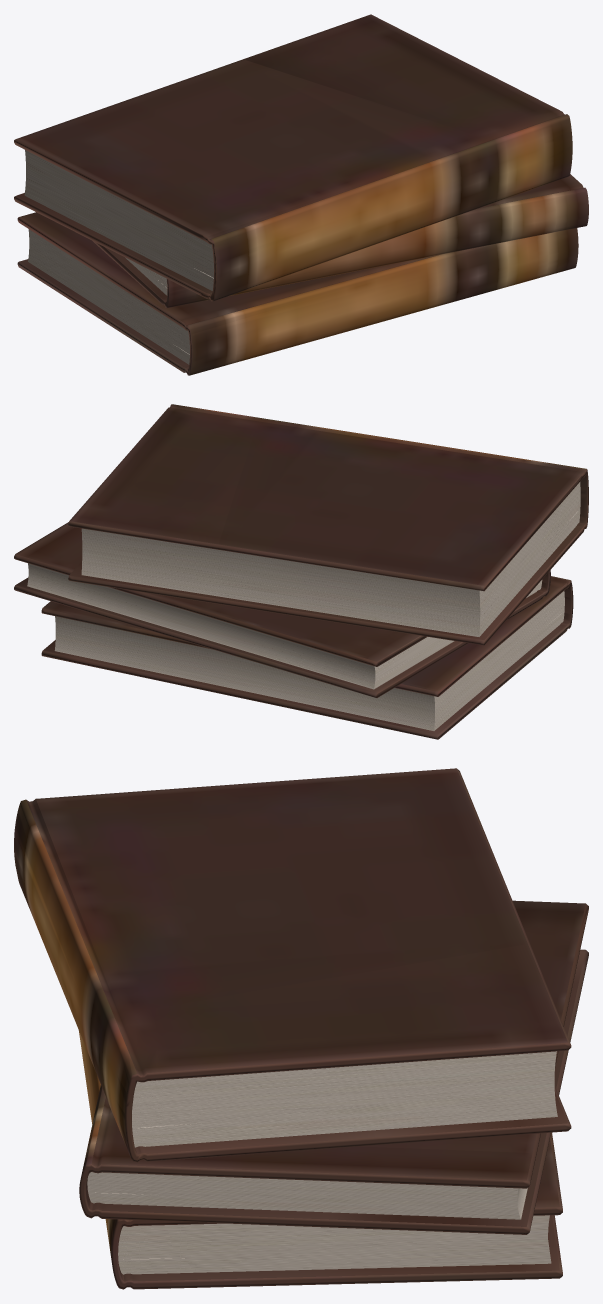
Rendered from bookstack.glb.
The picture shows the model from 3 angles, top to bottom: view 1: azimuth 30°, elevation 25°; view 2: azimuth 150°, elevation 25°; view 3: azimuth 270°, elevation 25°; orthographic projection. The views are drawn at different scales.
Visible parts, largest first — view 1: book_encyclopedia_set_01_book15, book_encyclopedia_set_01_book02, book_encyclopedia_set_01_book09; view 2: book_encyclopedia_set_01_book15, book_encyclopedia_set_01_book02, book_encyclopedia_set_01_book09; view 3: book_encyclopedia_set_01_book15, book_encyclopedia_set_01_book09, book_encyclopedia_set_01_book02.
Boxes of the visible parts, x1,y1,x2,y2 form: book_encyclopedia_set_01_book15: [14, 14, 572, 301]; book_encyclopedia_set_01_book02: [17, 212, 578, 375]; book_encyclopedia_set_01_book09: [93, 174, 588, 307]; book_encyclopedia_set_01_book15: [68, 404, 588, 645]; book_encyclopedia_set_01_book02: [41, 576, 573, 739]; book_encyclopedia_set_01_book09: [14, 522, 550, 697]; book_encyclopedia_set_01_book15: [14, 768, 571, 1162]; book_encyclopedia_set_01_book09: [79, 900, 588, 1234]; book_encyclopedia_set_01_book02: [78, 1030, 562, 1289].
Size of the model in its own units: 0.2763 by 0.0854 by 0.2073.
2 materials, 2 textured.
